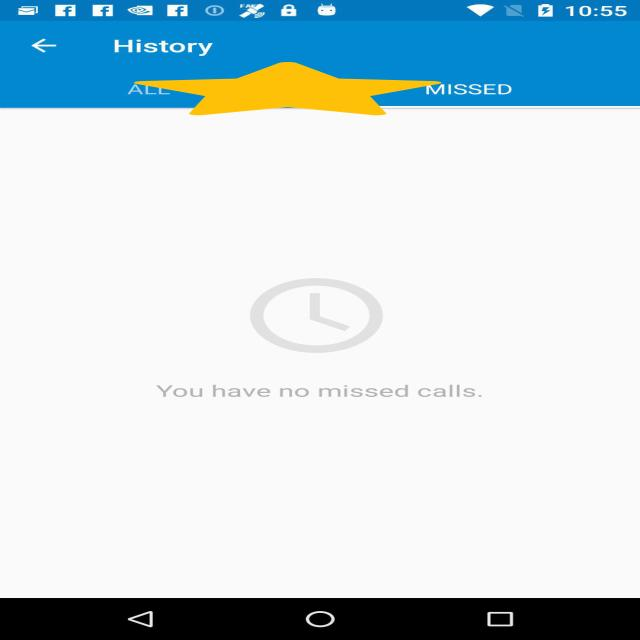forced continuity: (134, 62, 441, 115)
